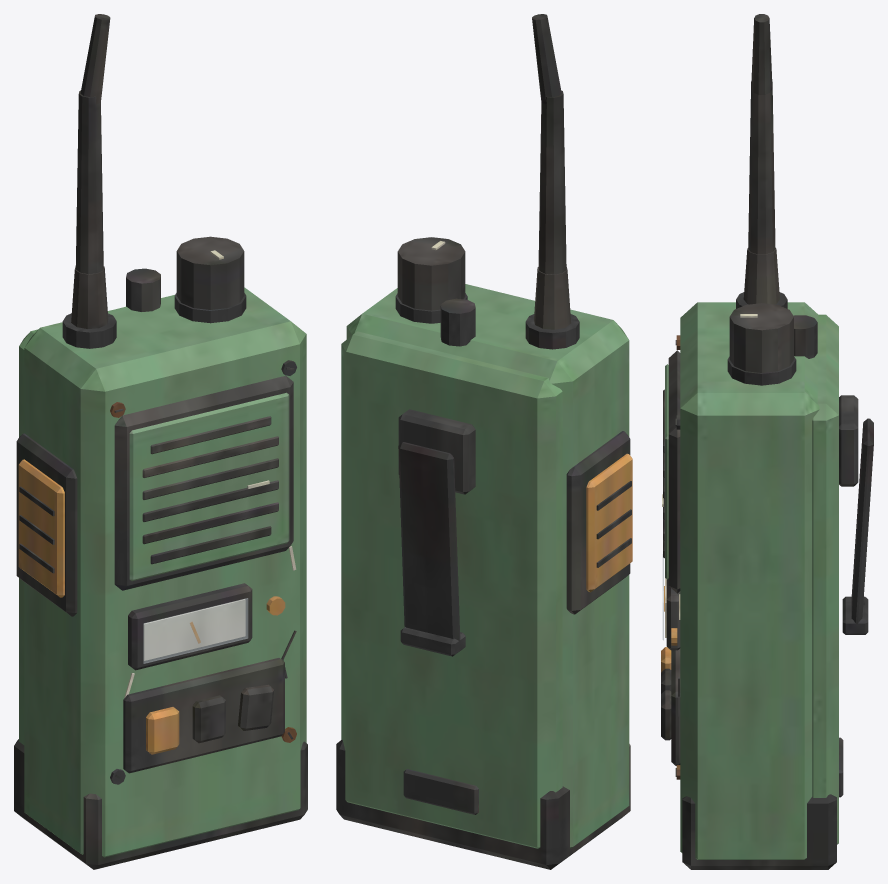
The model's file is P30_walkie_talkie.glb.
3 renders of one model, left to right at view 1: azimuth 30°, elevation 25°; view 2: azimuth 150°, elevation 25°; view 3: azimuth 270°, elevation 25°, orthographic. The views are drawn at different scales.
Parts seen in each view (by area): view 1: Olive front shell; view 2: Olive front shell; view 3: Olive front shell.
Boxes of the visible parts, x1,y1,x2,y2 form: Olive front shell: (14,14,307,869); Olive front shell: (336,14,632,869); Olive front shell: (661,14,873,869).
Size of the model in its own units: 0.0619 by 0.2 by 0.0496.
Materials: 8 (7 with a texture image).
